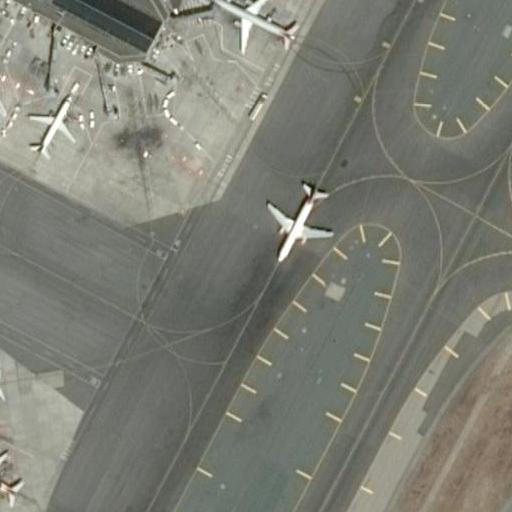Aircraft: (259, 176, 334, 265), (22, 82, 85, 162), (209, 0, 300, 54), (0, 445, 25, 512), (0, 14, 9, 136), (0, 338, 6, 428)
